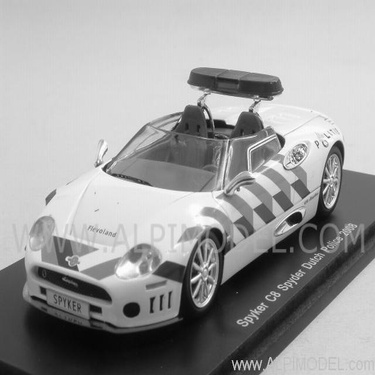car: (10, 64, 358, 314)
